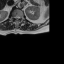CCS_normal: (16, 14, 18, 21)
LFS_normal: (20, 15, 21, 19)
LLS_normal: (18, 15, 19, 19)
RFS_stenosis: (12, 15, 14, 19)
RLS_normal: (14, 15, 16, 19)
